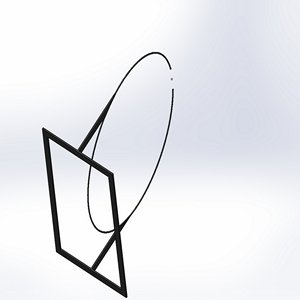circle: (38, 49, 176, 297)
